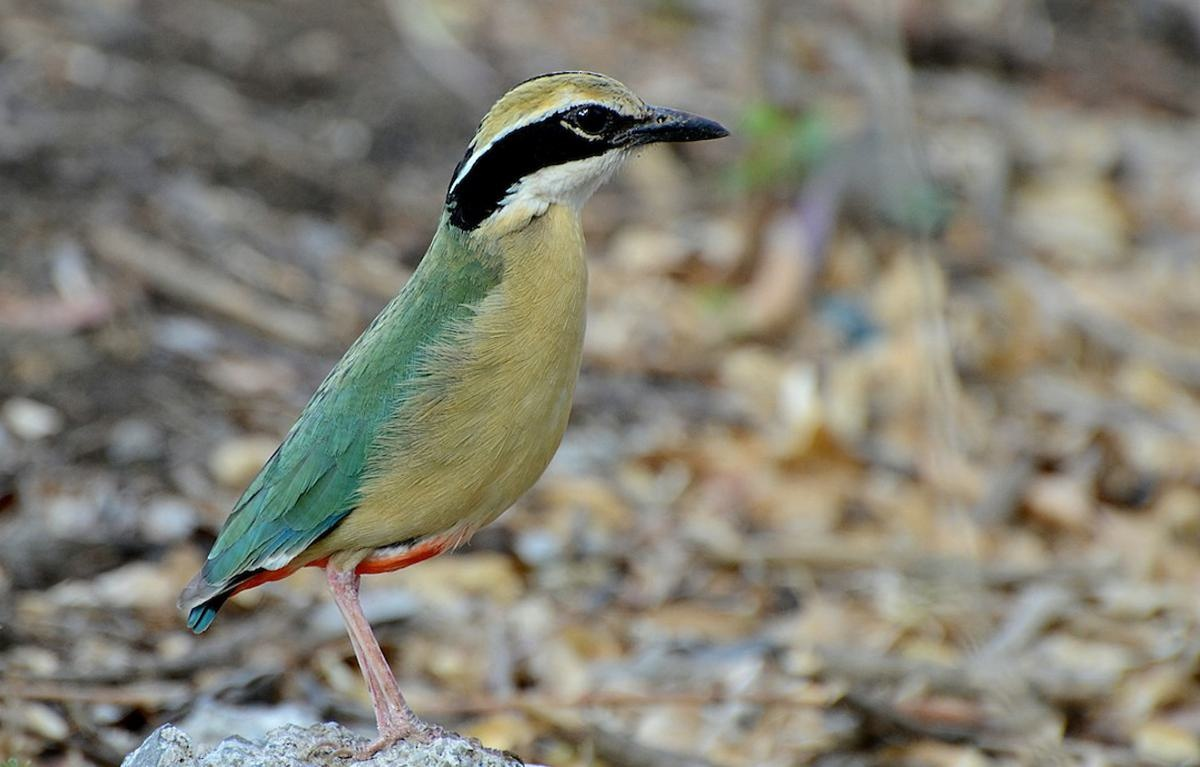pitta: (189, 44, 744, 731)
